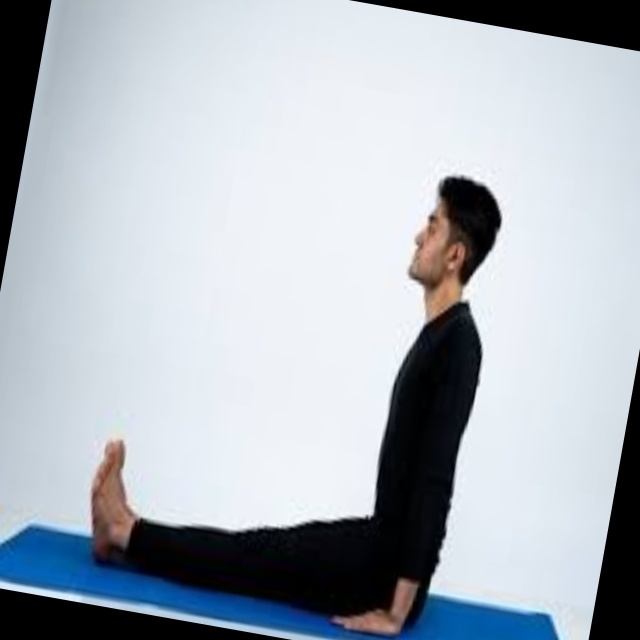Staff_Pose: (92, 175, 500, 637)
